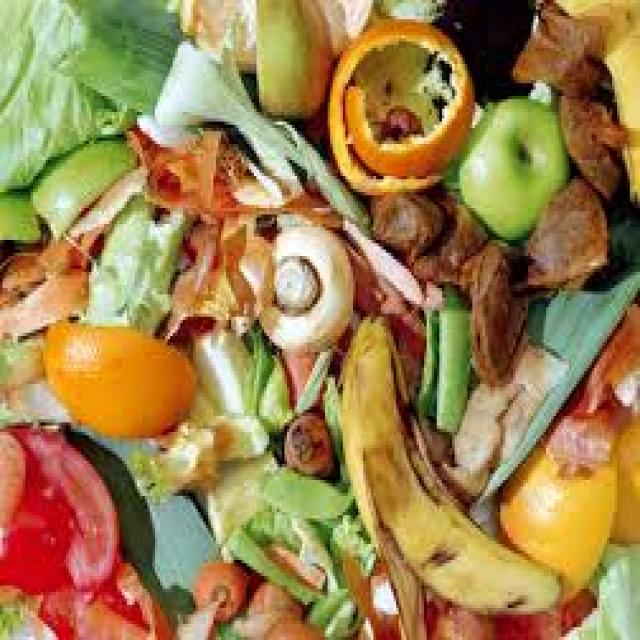food_waste: (11, 27, 608, 625)
